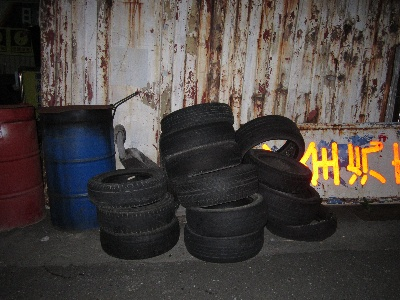bucket: (36, 104, 117, 231)
tire: (184, 192, 268, 237), (175, 164, 259, 207), (184, 221, 266, 263), (99, 217, 181, 257), (88, 167, 169, 206), (245, 147, 314, 192), (99, 194, 178, 232), (166, 139, 242, 178), (158, 121, 235, 154), (257, 183, 322, 222), (263, 210, 339, 243), (159, 102, 235, 132)
